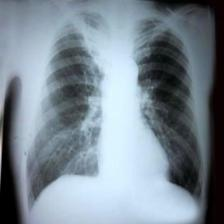tuberculosis: (22, 4, 210, 215)
